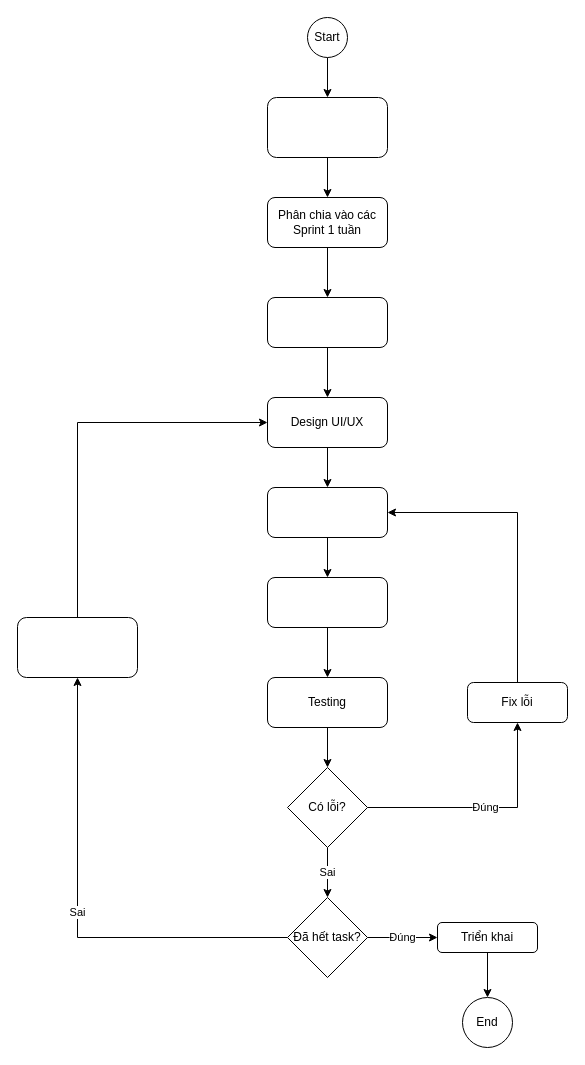
Image size: 585x1065. Some labels were removed from this diagram. Here are the shapes that lost their labels. From the top down, the centre of each, then its label:
point (327, 127): Liệt kê các công việc phải làm
point (327, 322): Thiết kế CSDL
point (327, 512): Frontend Code
point (327, 602): Backend Code
point (77, 647): Thực hiện task cho Sprint sau
